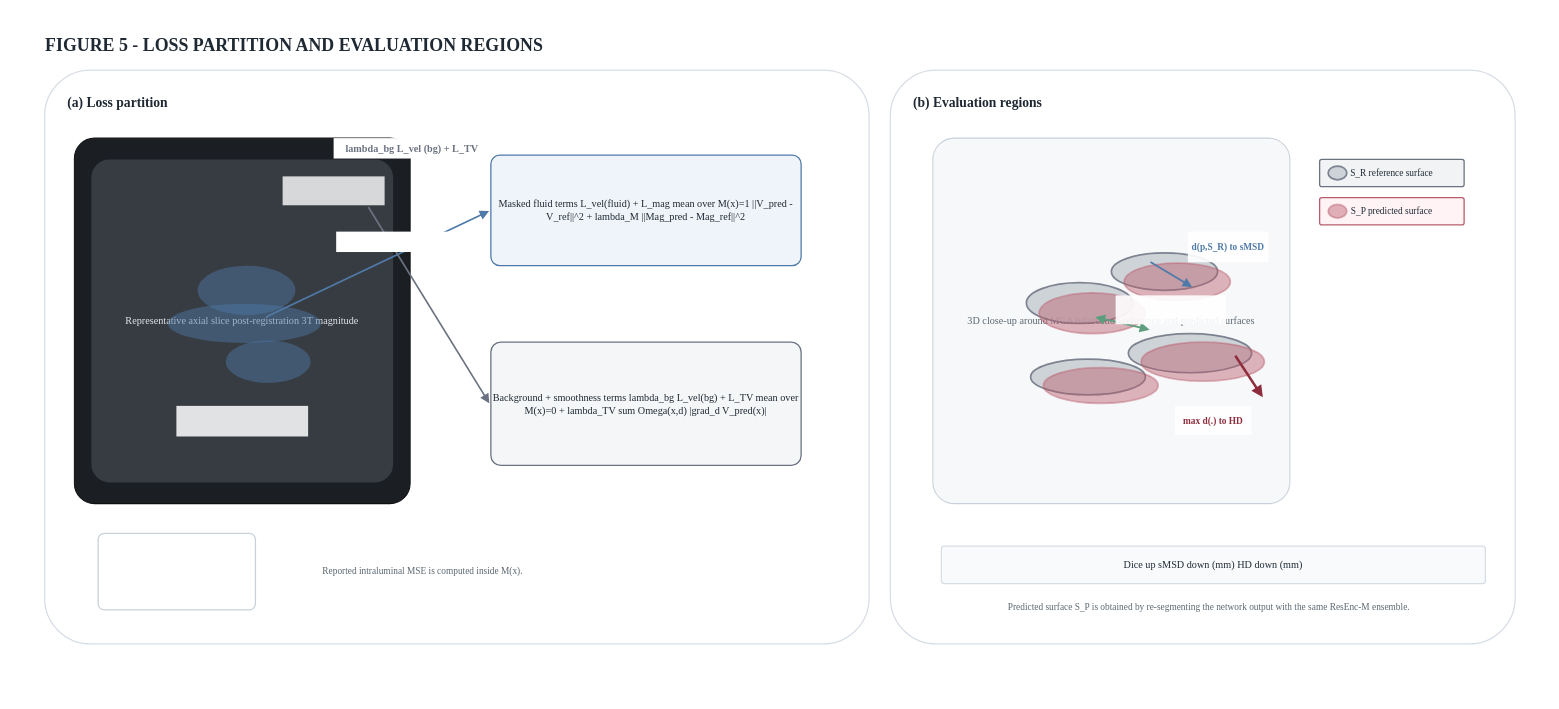
Image size: 1559x709. Some labels were removed from this diagram. The centre of each missing label's shape, as x and y in pixels:
"CoW mask M(x) fluid region" belongs at point (242, 420).
"Dice volumetric overlap" belongs at point (1170, 309).
"L_vel (fluid) + L_mag" belongs at point (406, 241).
"Loss weights lambda_bg = 0.1 lambda_M = 1 lambda_TV = 1e-5" belongs at point (176, 571).
"outside mask background" belongs at point (333, 190).
